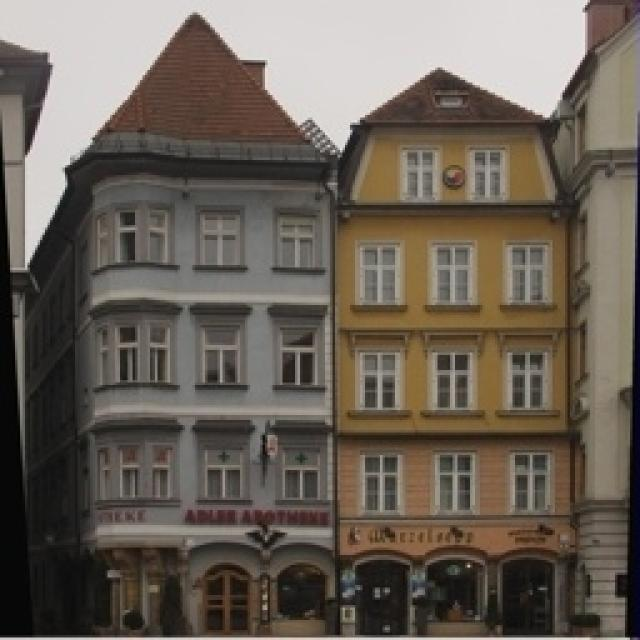building: (55, 0, 335, 628), (340, 58, 570, 630)
